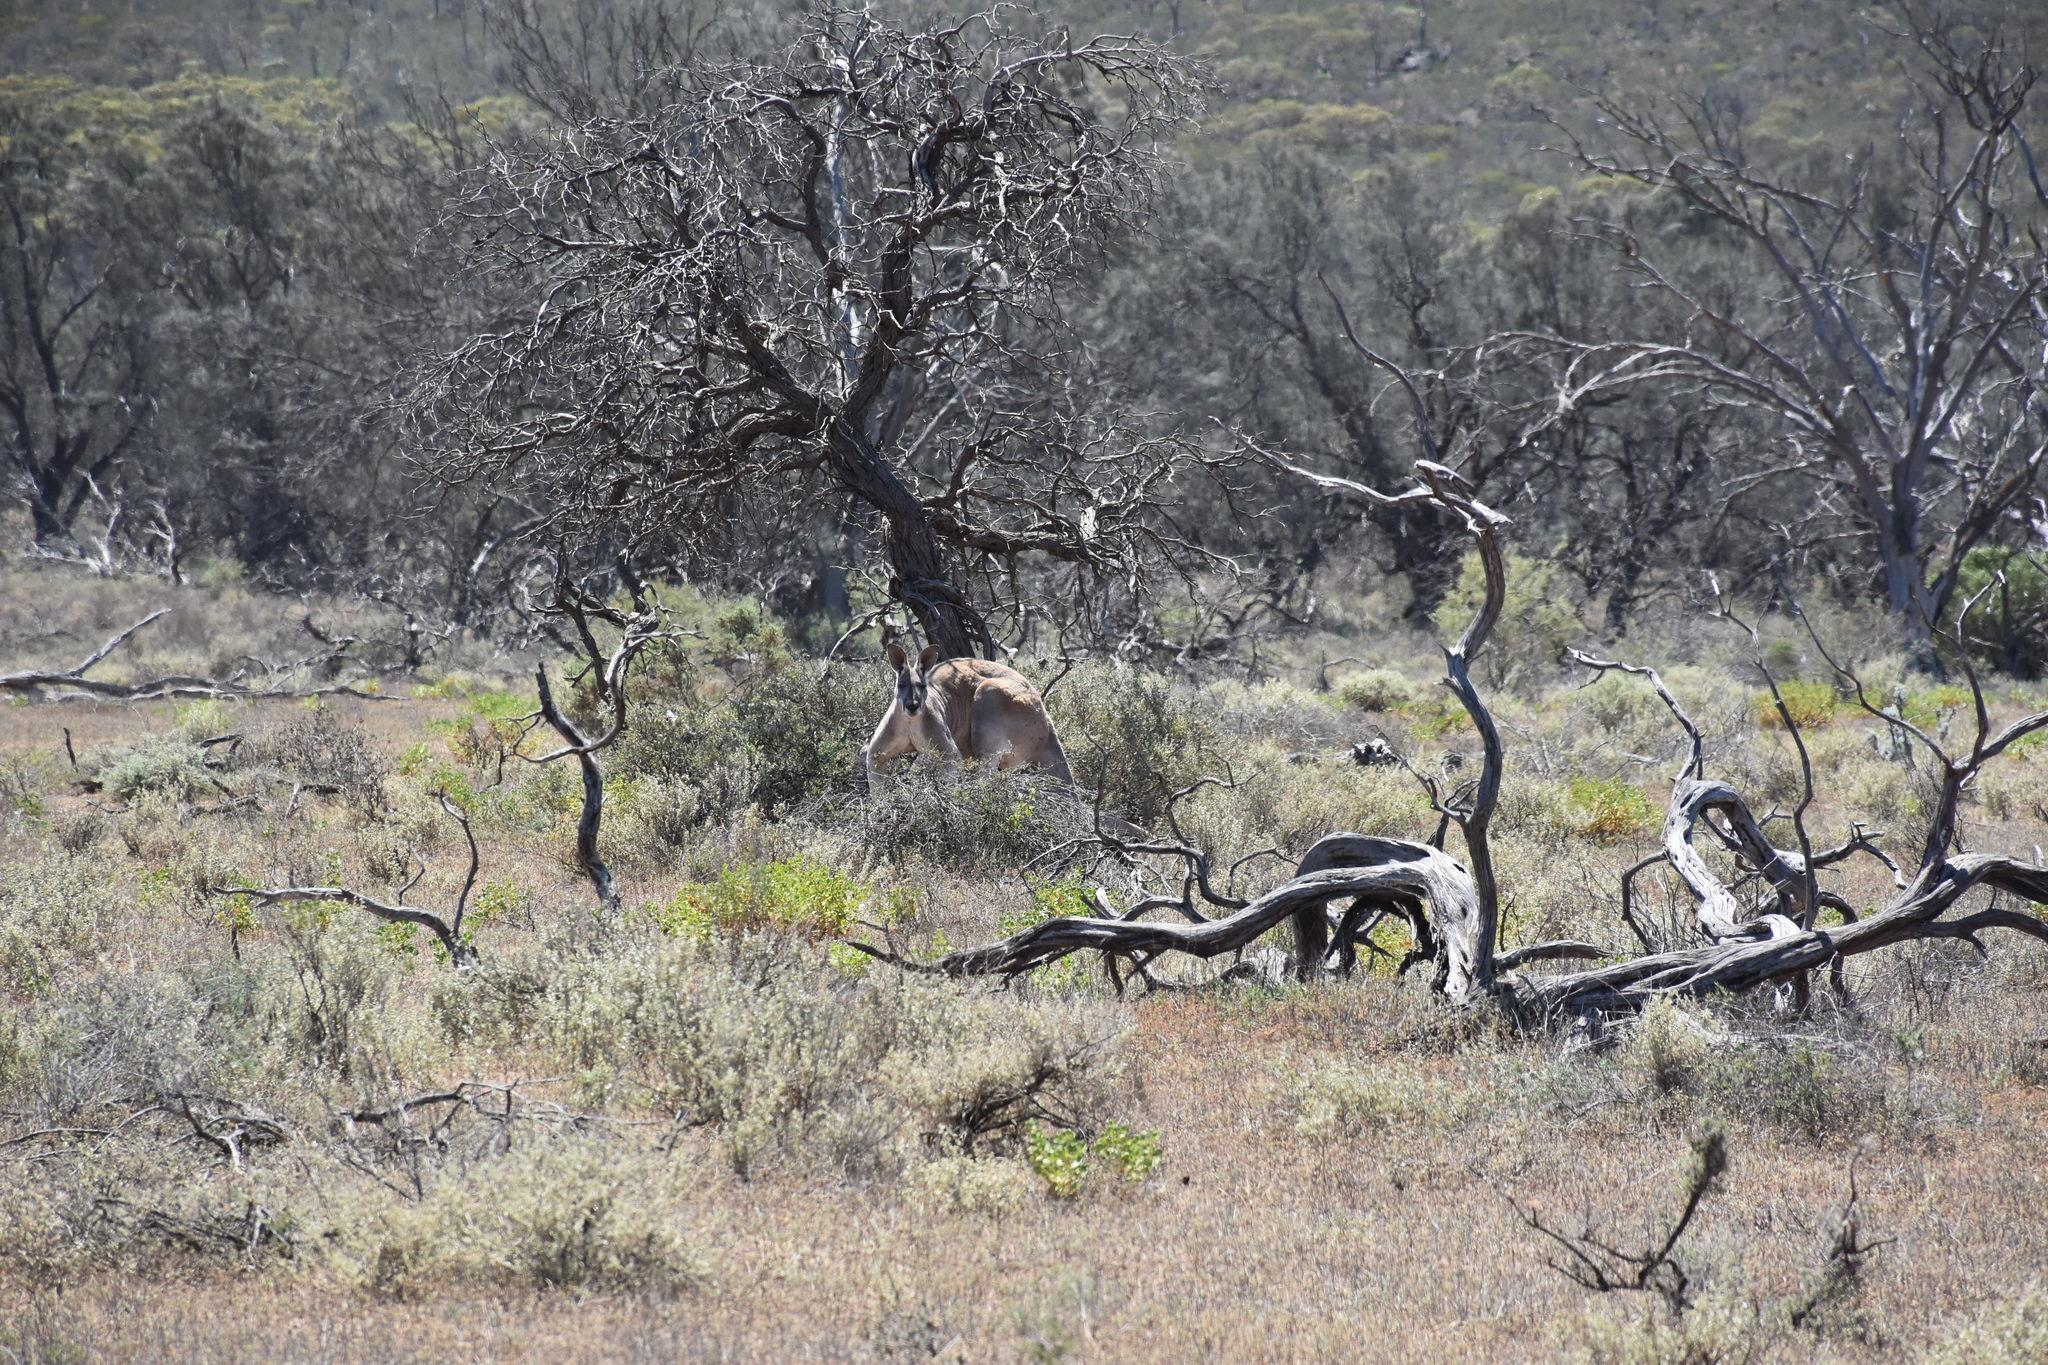Red kangaroo: (865, 641, 1160, 839)
